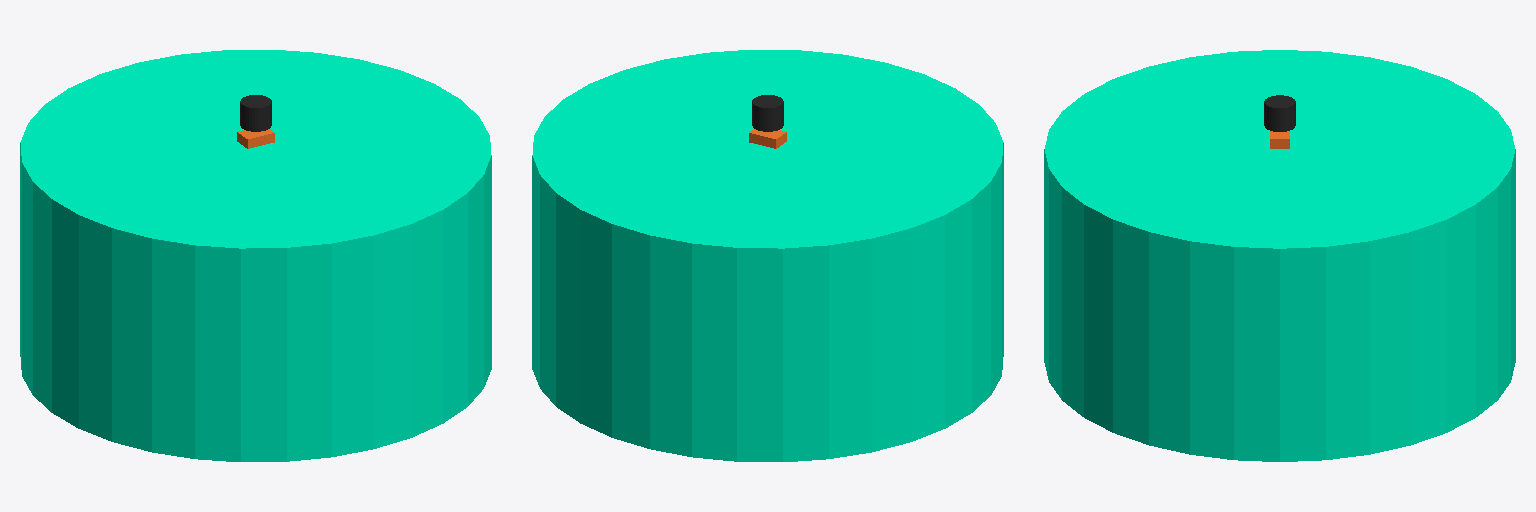
The robot description file, URDF, robot "agv":
<robot name="agv">
  <material name="orange">
    <color rgba="1.0 0.5 0.2 1" />
  </material>
  <material name="gray">
    <color rgba="0.2 0.2 0.2 1" />
  </material>

  <link name="imu_link">
    <visual>
      <origin xyz="0 0 0" />
      <geometry>
        <box size="0.06 0.04 0.02" />
      </geometry>
      <material name="orange" />
    </visual>
  </link>

  <link name="rslidar">
    <visual>
      <origin xyz="0 0 0" />
      <geometry>
        <cylinder length="0.05" radius="0.03" />
      </geometry>
      <material name="gray" />
    </visual>
  </link>

  <link name="base_link">
  <!--link name="base_footprint"-->
    <visual>
    <geometry>
        <cylinder length="0.45" radius="0.45"/>
        <!--box size="0.60 0.52 0.4"/--> 
    </geometry>
    <origin rpy="0 0 0" xyz="0  0 .2"/>
    <material name="blue">
        <color rgba="0 1 .8 0.5"/>
    </material>
    </visual>
 </link>

  <joint name="imu_link_joint" type="fixed">
    <parent link="base_link" />
    <child link="imu_link" />
    <origin rpy="0 0 3.1415926" xyz="0 0 0.45" />
  </joint>

  <joint name="laser_joint" type="fixed">
    <parent link="base_link" />
    <child link="rslidar" />
    <origin rpy="0 0 3.1415926" xyz="0.0 0 0.5" />
  </joint>

</robot>

--- Render facts (derived) ---
The picture shows the robot from 3 angles, left to right: view 1: azimuth 30°, elevation 25°; view 2: azimuth 150°, elevation 25°; view 3: azimuth 270°, elevation 25°; orthographic projection.
Robot: agv — 3 links, 2 joints (2 fixed); root link base_link; default pose: every joint at zero.
Visible links, largest first — view 1: base_link, rslidar, imu_link; view 2: base_link, rslidar, imu_link; view 3: base_link, rslidar.
Boxes of the visible links, x1,y1,x2,y2 form: base_link: (20, 50, 491, 461); rslidar: (240, 95, 271, 131); imu_link: (237, 129, 274, 148); base_link: (532, 50, 1003, 461); rslidar: (752, 95, 783, 131); imu_link: (749, 129, 786, 148); base_link: (1044, 50, 1515, 461); rslidar: (1264, 95, 1295, 131).
Bounding box of the posed robot: 0.9 × 0.9 × 0.55 m (x, y, z).
Geometry: primitives only (box / cylinder / sphere), no mesh files.
